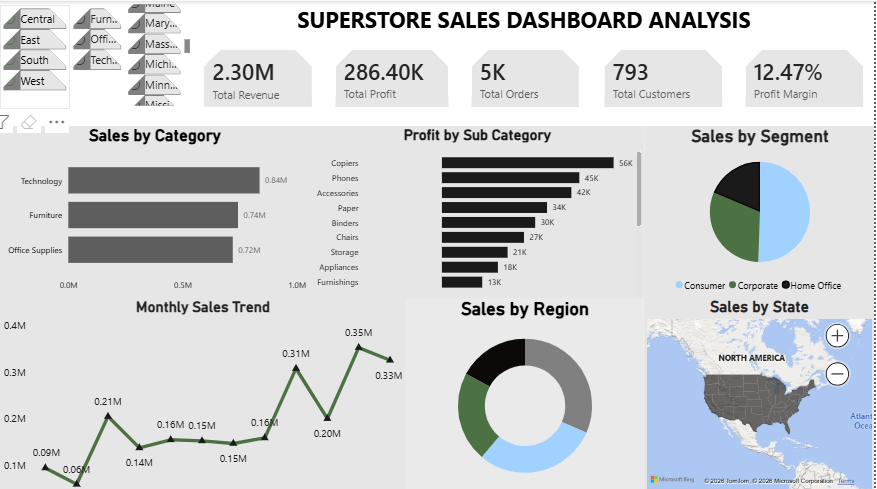

Layout of this report page (visuals, bound fields, positions):
{"tool":"powerbi","page":{"name":"sales Dashboard","canvas":[1280,720],"ordinal":0},"visuals":[{"type":"cardVisual","fields":{"Data":["Sample - Superstore.Total Revenue"]},"box":[281,71.7,193.2,112.7],"z":0},{"type":"cardVisual","fields":{"Data":["Sample - Superstore.Total Profit"]},"box":[474.1,71.7,199,112.7],"z":1000},{"type":"cardVisual","fields":{"Data":["Sample - Superstore.Total Orders"]},"box":[673.2,71.7,191.7,112.7],"z":2000},{"type":"cardVisual","fields":{"Data":["Sample - Superstore.Total Customers"]},"box":[867.8,71.7,206.3,112.7],"z":3000},{"type":"cardVisual","fields":{"Data":["Sample - Superstore.Profit Margin"]},"box":[1074.1,71.7,206.3,117.1],"z":4000},{"type":"clusteredBarChart","title":"Sales by Category","fields":{"Category":["Sample - Superstore.Category"],"Y":["Sample - Superstore.Total Revenue"]},"box":[0,188.8,453.7,245.9],"z":5000},{"type":"donutChart","title":"Sales by Region","fields":{"Category":["Sample - Superstore.Region"],"Y":["Sample - Superstore.Total Revenue"]},"box":[605.9,444.9,336.6,275.1],"z":6000},{"type":"lineChart","title":"Monthly Sales Trend","fields":{"Category":["Sample - Superstore.Order Date.Variation.Date Hierarchy.Month"],"Y":["Sample - Superstore.Total Revenue"]},"box":[0,444.9,594.1,275.1],"z":7000},{"type":"barChart","title":"Profit by Sub Category","fields":{"Category":["Sample - Superstore.Sub-Category"],"Y":["Sample - Superstore.Total Profit"]},"box":[474.1,188.8,469.8,245.9],"z":8000},{"type":"filledMap","title":"Sales by  State","fields":{"Category":["Sample - Superstore.State"]},"box":[954.1,444.9,326.3,275.1],"z":9000},{"type":"pieChart","title":"Sales by Segment","fields":{"Category":["Sample - Superstore.Segment"],"Y":["Sample - Superstore.Total Revenue"]},"box":[954.1,188.8,326.3,245.9],"z":10000},{"type":"listSlicer","fields":{"Values":["Sample - Superstore.Region"]},"box":[0,5.9,102.4,152.2],"z":11000},{"type":"listSlicer","fields":{"Values":["Sample - Superstore.Category"]},"box":[102.4,7.3,80.5,142],"z":12000},{"type":"listSlicer","fields":{"Values":["Sample - Superstore.State"]},"box":[182.9,7.3,101,127.3],"z":13000},{"type":"textbox","box":[281,0,999.5,71.7],"z":13001}]}

Visuals, with their boxes in screenshot pixels (x1, y1, x2, y2), scaled from the page's 1280x720 canvas onto the 877x489 screenshot:
cardVisual - Sample - Superstore.Total Revenue: {"x1": 193, "y1": 49, "x2": 325, "y2": 125}
cardVisual - Sample - Superstore.Total Profit: {"x1": 325, "y1": 49, "x2": 461, "y2": 125}
cardVisual - Sample - Superstore.Total Orders: {"x1": 461, "y1": 49, "x2": 593, "y2": 125}
cardVisual - Sample - Superstore.Total Customers: {"x1": 595, "y1": 49, "x2": 736, "y2": 125}
cardVisual - Sample - Superstore.Profit Margin: {"x1": 736, "y1": 49, "x2": 876, "y2": 128}
"Sales by Category" clusteredBarChart: {"x1": 0, "y1": 128, "x2": 311, "y2": 295}
"Sales by Region" donutChart: {"x1": 415, "y1": 302, "x2": 646, "y2": 488}
"Monthly Sales Trend" lineChart: {"x1": 0, "y1": 302, "x2": 407, "y2": 488}
"Profit by Sub Category" barChart: {"x1": 325, "y1": 128, "x2": 647, "y2": 295}
"Sales by  State" filledMap: {"x1": 654, "y1": 302, "x2": 876, "y2": 488}
"Sales by Segment" pieChart: {"x1": 654, "y1": 128, "x2": 876, "y2": 295}
listSlicer - Sample - Superstore.Region: {"x1": 0, "y1": 4, "x2": 70, "y2": 107}
listSlicer - Sample - Superstore.Category: {"x1": 70, "y1": 5, "x2": 125, "y2": 101}
listSlicer - Sample - Superstore.State: {"x1": 125, "y1": 5, "x2": 195, "y2": 91}
textbox: {"x1": 193, "y1": 0, "x2": 876, "y2": 49}
